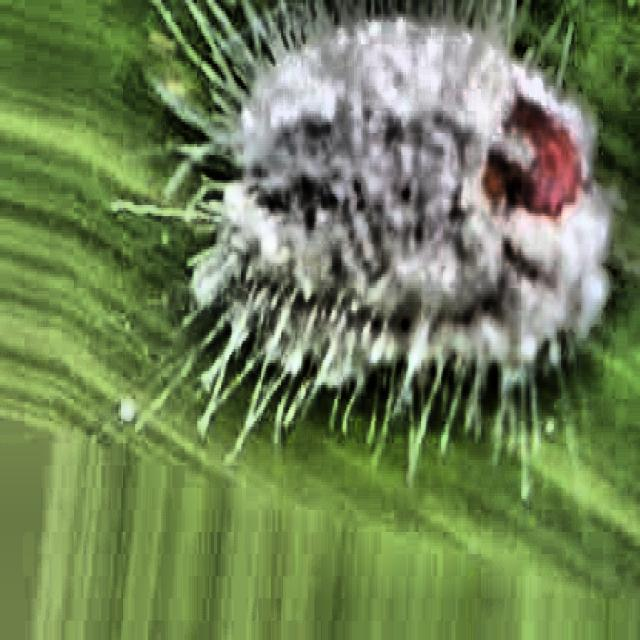Mealy-bug: (159, 0, 637, 428)
